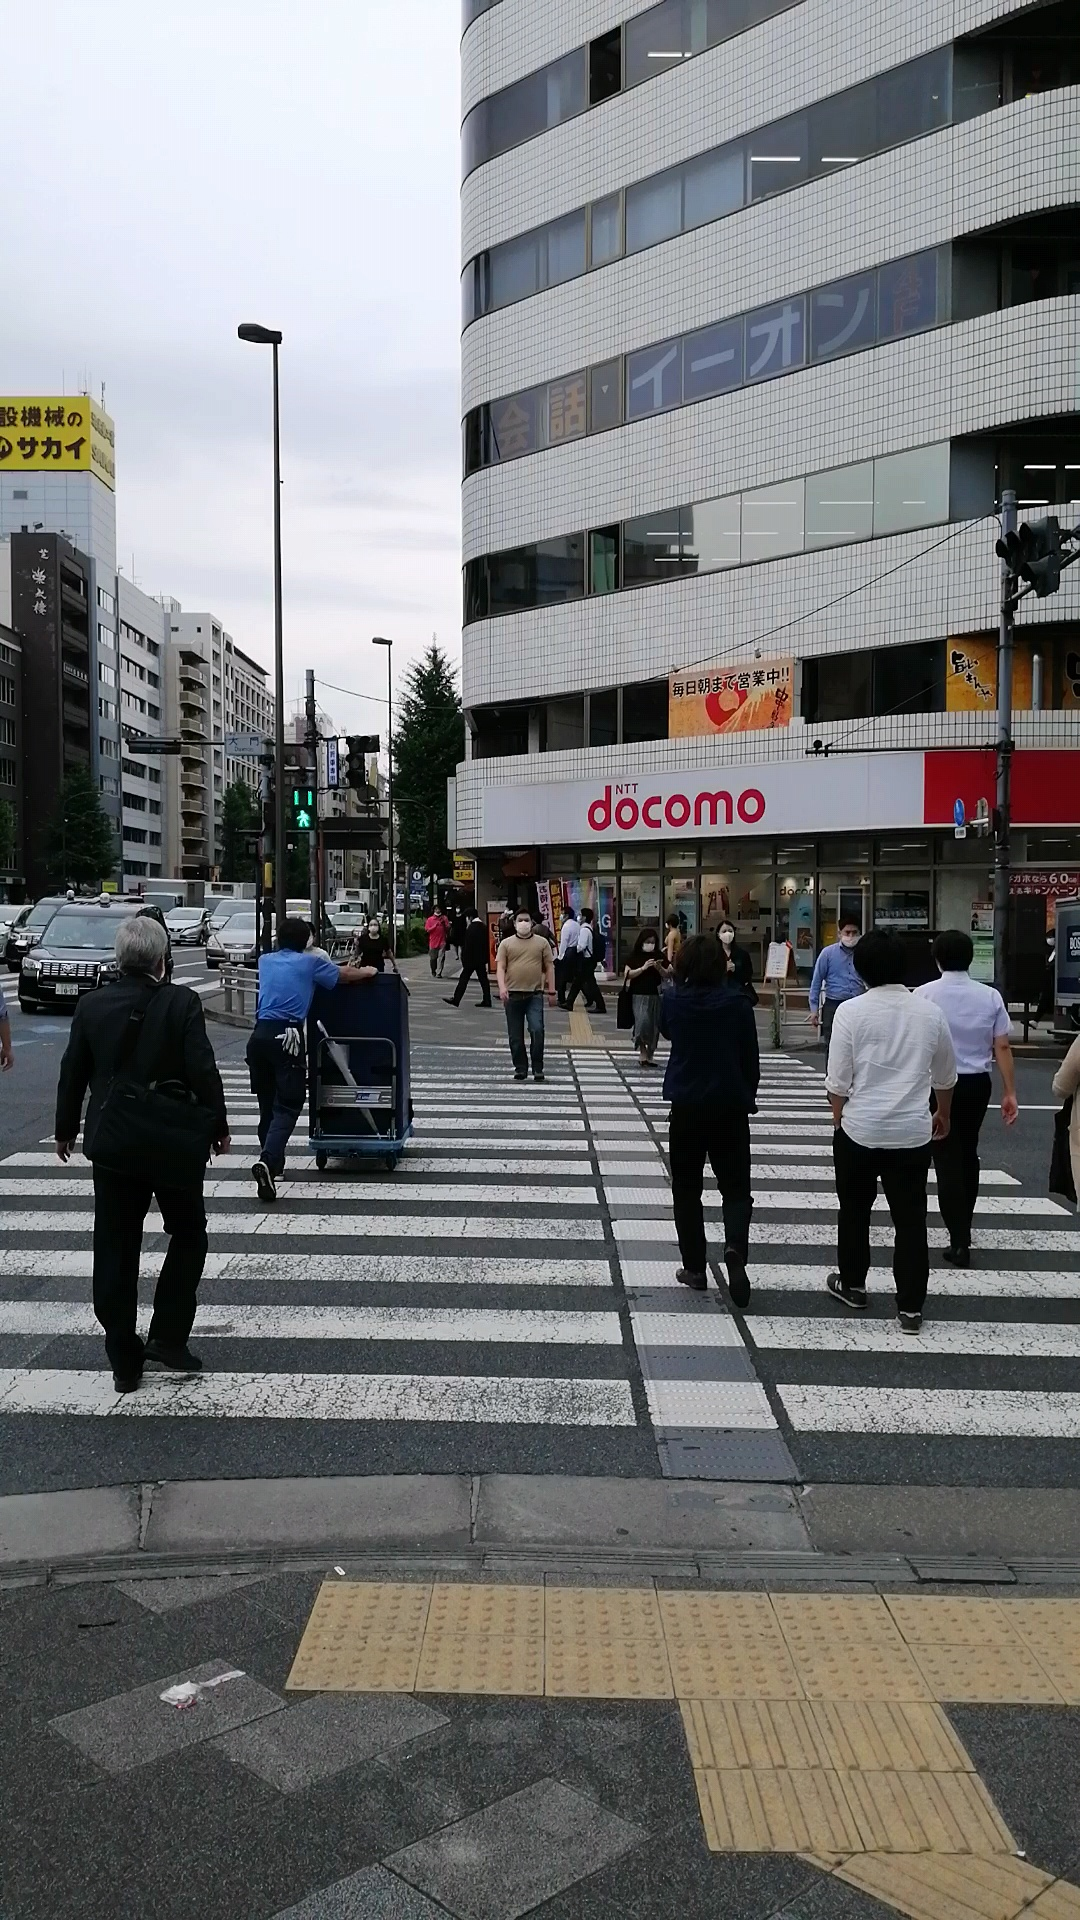green: (286, 783, 316, 831)
